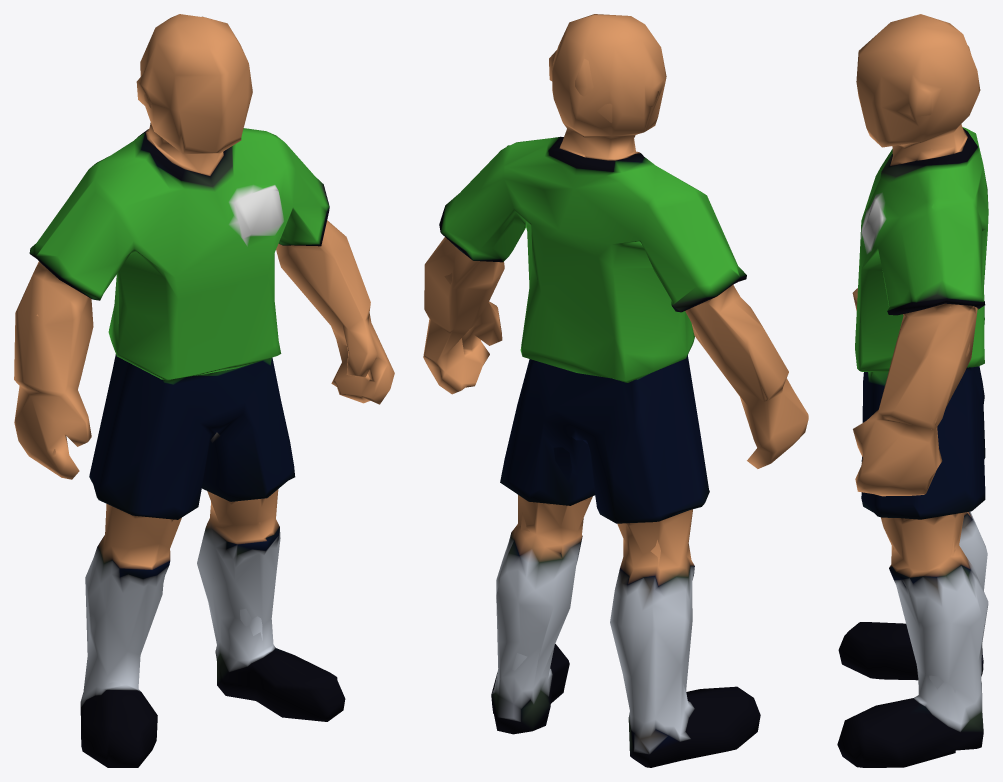
Rendered from gen3d-soccer-goalkeeper-lod0.glb.
The picture shows the model from 3 angles, left to right: view 1: azimuth 30°, elevation 25°; view 2: azimuth 150°, elevation 25°; view 3: azimuth 270°, elevation 25°; orthographic projection. The views are drawn at different scales.
Parts seen in each view (by area): view 1: part_0; view 2: part_0; view 3: part_0.
Boxes of the visible parts, x1,y1,x2,y2 form: part_0: (14,14,394,767); part_0: (423,14,808,767); part_0: (837,14,988,767).
Size of the model in its own units: 0.5247 by 0.9999 by 0.1988.
